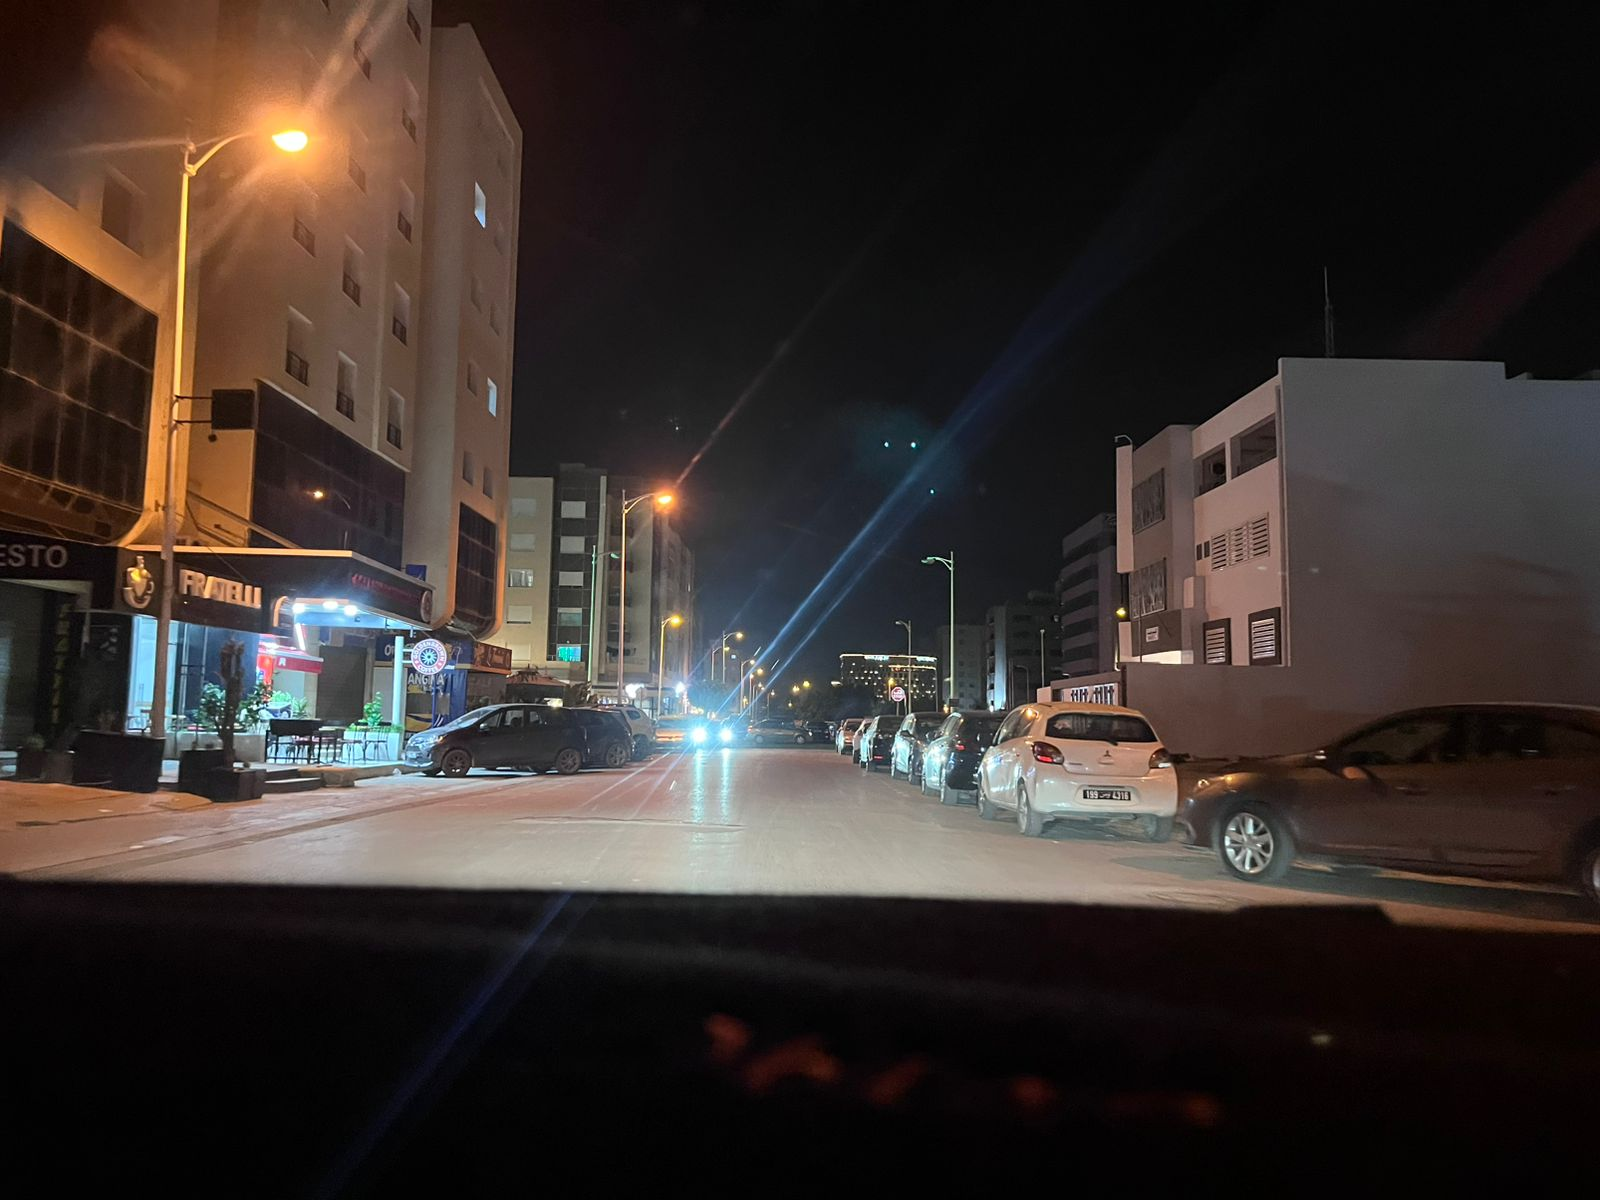Stop: (891, 687, 905, 702)
